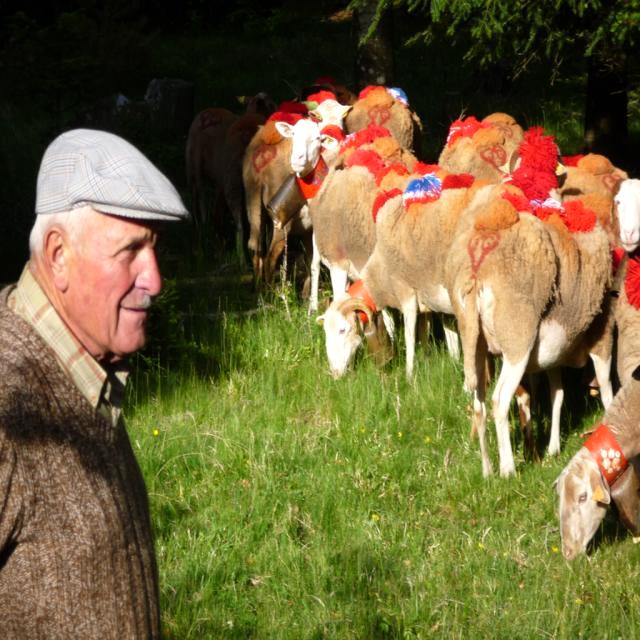sheep: (552, 377, 639, 559)
